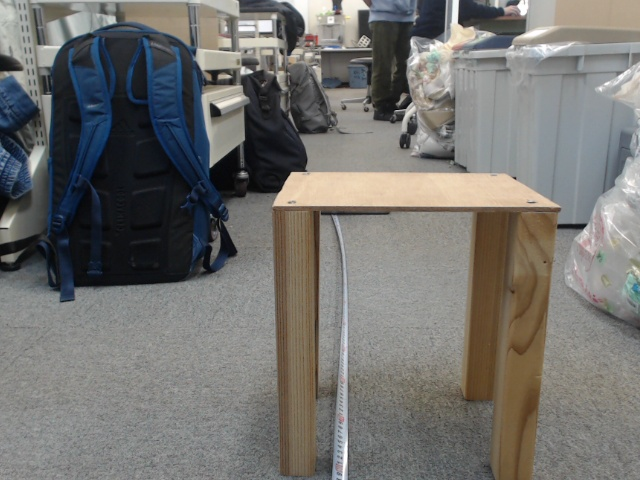desk: (261, 149, 484, 406)
